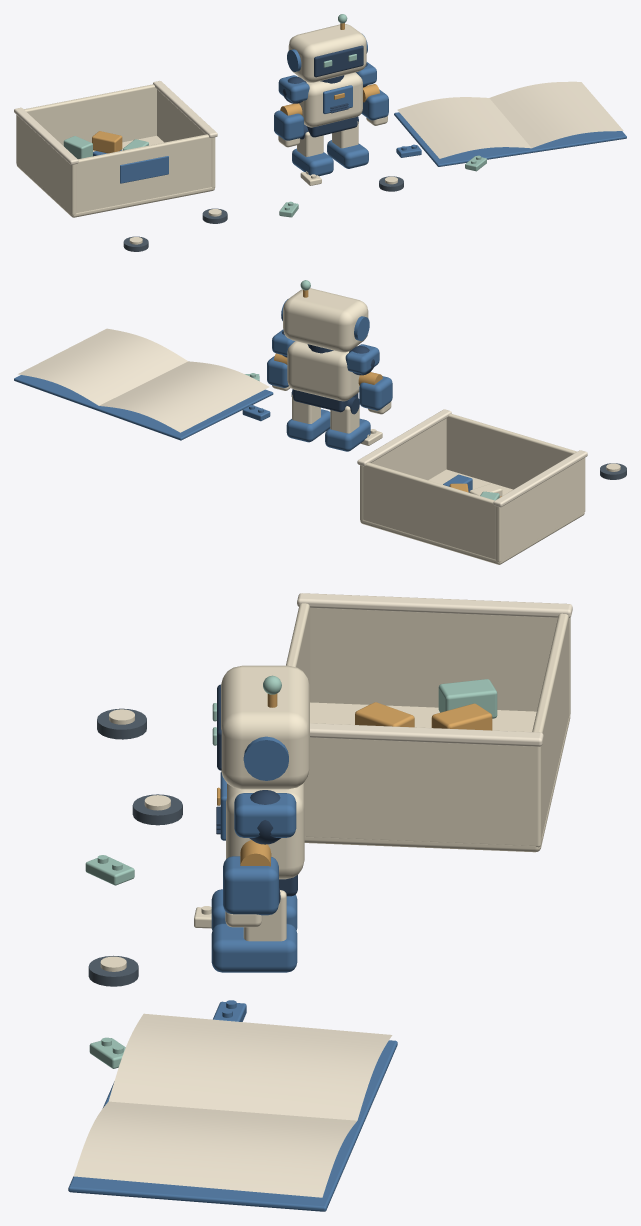
Rendered from family-rug-robot-v2.glb.
3 views of the same model, one above another, from view 1: azimuth 30°, elevation 25°; view 2: azimuth 150°, elevation 25°; view 3: azimuth 270°, elevation 25° (orthographic). The views are drawn at different scales.
Parts seen in each view (by area): view 1: Tray-end (×2), Diagram-right, Diagram-left, Tray-side (×2), Rounded head, Book-lined cover, Rounded cuirass, Blue boot (×2), Folded box rim (×2), Enamel gauntlet (×2), Spare-block (×2), Tray-bottom (+6 smaller); view 2: Tray-end (×2), Tray-side (×2), Diagram-right, Diagram-left, Rounded head, Rounded cuirass, Book-lined cover, Folded box rim (×2), Blue boot (×2), Tray-bottom, Enamel gauntlet (×2), Ivory shin guard (×2) (+2 smaller); view 3: Tray-side (×2), Diagram-left, Diagram-right, Rounded head, Folded box rim (×2), Book-lined cover, Tray-end (×2), Tray-bottom, Spare-block (×3), Blue boot, Loose wheel (×3), Enamel gauntlet (+5 smaller).
Part boxes in pixels (x1,y1,x2,y2): Tray-end (×2): (24,84,211,212); Diagram-right: (489,81,623,147); Diagram-left: (397,97,531,158); Tray-side (×2): (16,89,215,215); Rounded head: (288,24,366,82); Book-lined cover: (394,112,626,166); Rounded cuirass: (298,72,362,127); Blue boot (×2): (292,140,368,176); Folded box rim (×2): (14,81,217,164); Enamel gauntlet (×2): (274,89,388,140); Spare-block (×2): (63,131,122,158); Tray-bottom: (16,135,214,217); Tray-end (×2): (363,413,576,559); Tray-side (×2): (360,418,585,562); Diagram-right: (18,328,187,405); Diagram-left: (99,361,269,432); Rounded head: (283,288,368,352); Rounded cuirass: (287,341,359,401); Book-lined cover: (14,375,273,440); Folded box rim (×2): (357,409,587,507); Blue boot (×2): (286,409,370,451); Tray-bottom: (360,469,584,564); Enamel gauntlet (×2): (267,356,392,410); Ivory shin guard (×2): (292,394,359,433); Tray-side (×2): (304,608,570,847); Diagram-left: (108,1013,392,1120); Diagram-right: (73,1101,356,1197); Rounded head: (221,665,309,789); Folded box rim (×2): (297,593,572,746); Book-lined cover: (68,1040,397,1211); Tray-end (×2): (286,603,569,837); Tray-bottom: (304,702,570,852); Spare-block (×3): (355,679,497,730); Blue boot: (211,923,297,972); Loose wheel (×3): (88,708,182,986); Enamel gauntlet: (223,856,278,915).
Bounding box in the file's own units: 1 × 0.269 × 0.4226.
